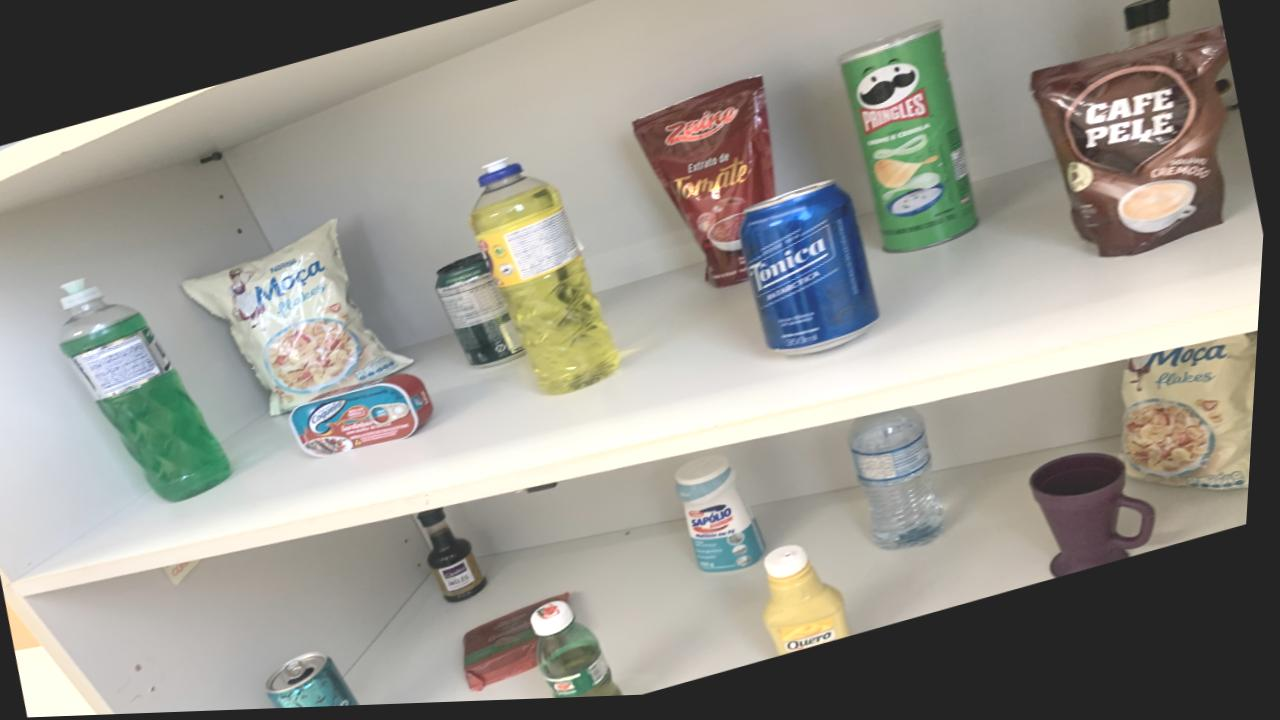Cleaner-Cleanup_Items: (682, 460, 773, 578)
Coffee-Pantry_Items: (1032, 35, 1231, 265)
Detergent-Cleanup_Items: (63, 280, 238, 503), (473, 163, 625, 399)
English_Sauce-Pantry_Items: (424, 512, 495, 606), (1125, 3, 1172, 56)
Flakes-Snacks: (185, 221, 418, 418), (1127, 344, 1262, 500)
Guarana-Drinks: (538, 604, 632, 703)
Guarana_Can-Drinks: (439, 257, 530, 372)
Guava-Snacks: (471, 597, 578, 696)
Mustard-Pantry_Items: (771, 552, 858, 661)
Pringles-Snacks: (841, 32, 982, 260)
Tea-Drinks: (274, 655, 369, 711)
Tomato_Sauce-Pantry_Items: (634, 82, 778, 293)
Tonic-Drinks: (744, 187, 884, 362)
Tuna_Can-Pantry_Items: (295, 377, 439, 460)
Water_Bottle-Drinks: (855, 415, 951, 557)
